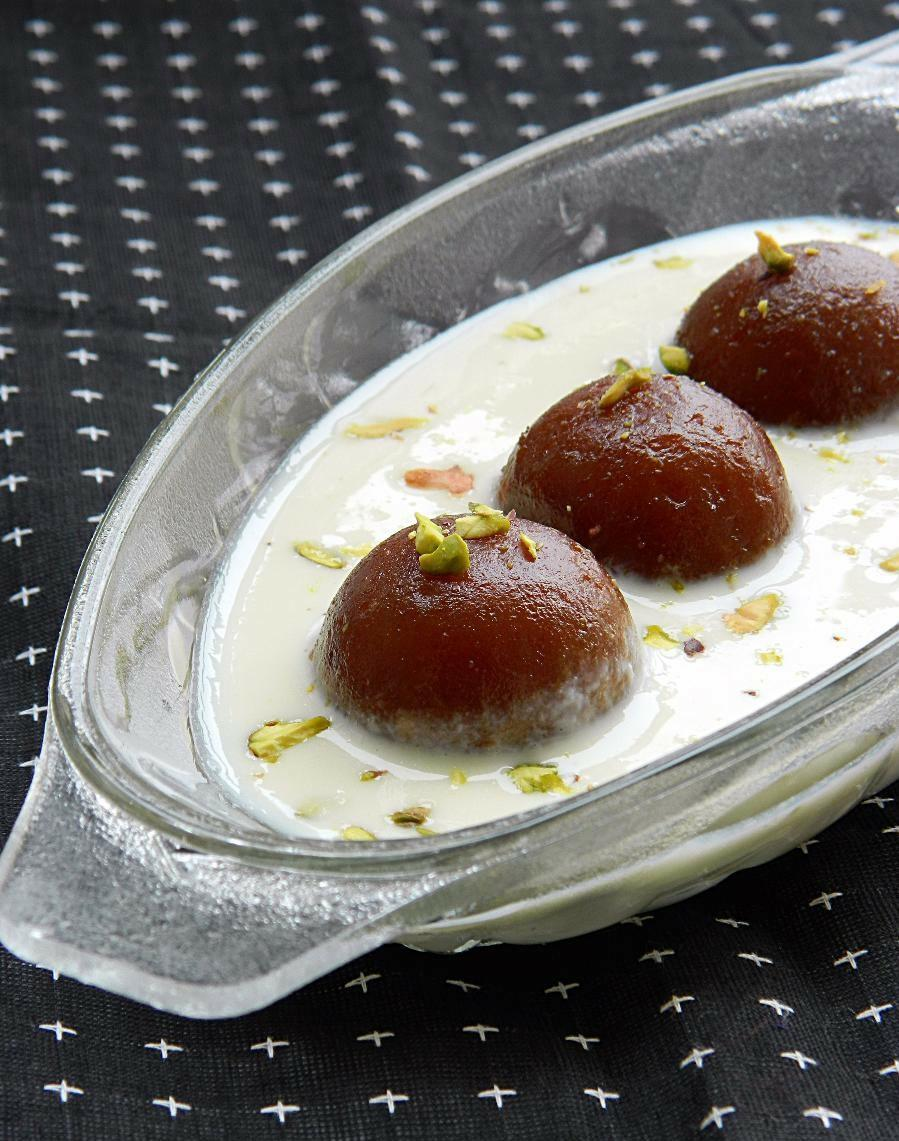GulabJamun: (313, 509, 633, 752), (498, 360, 784, 597), (669, 230, 893, 438)
